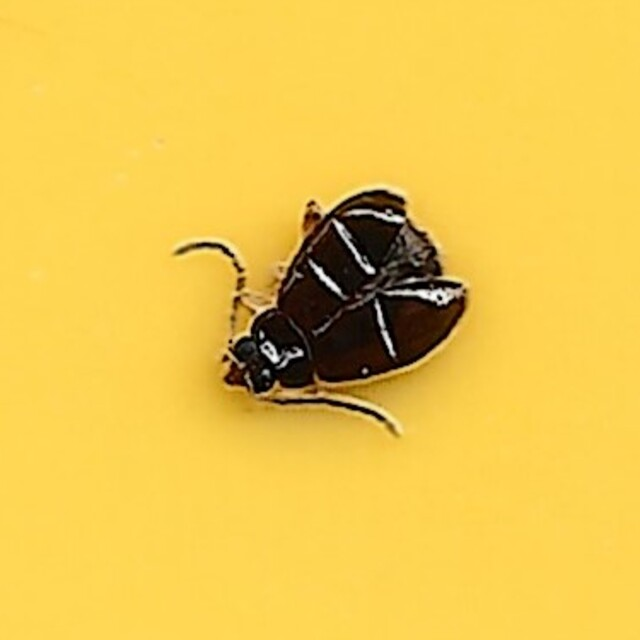Coleoptera: (171, 187, 469, 453)
